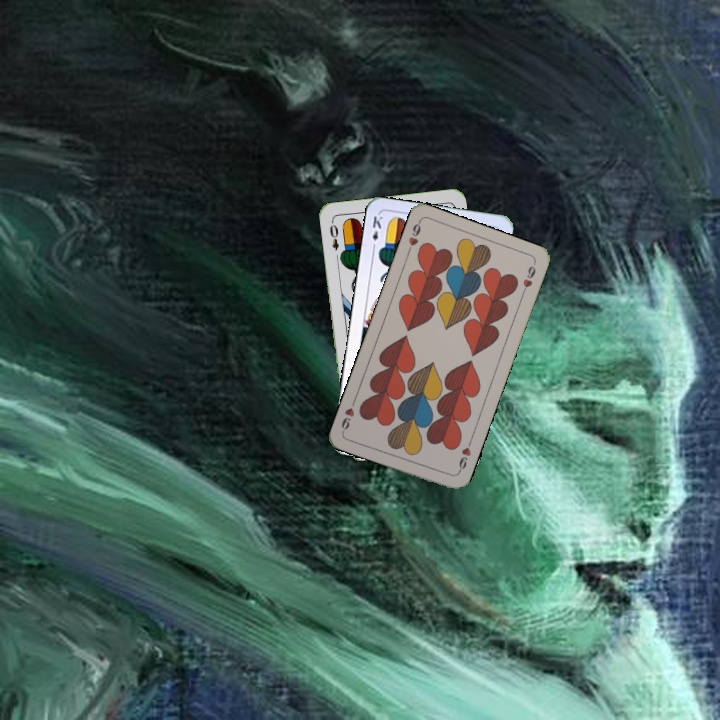EK: (368, 212, 385, 252)
EO: (325, 217, 341, 253)
H9: (403, 217, 423, 257), (454, 437, 474, 476)
